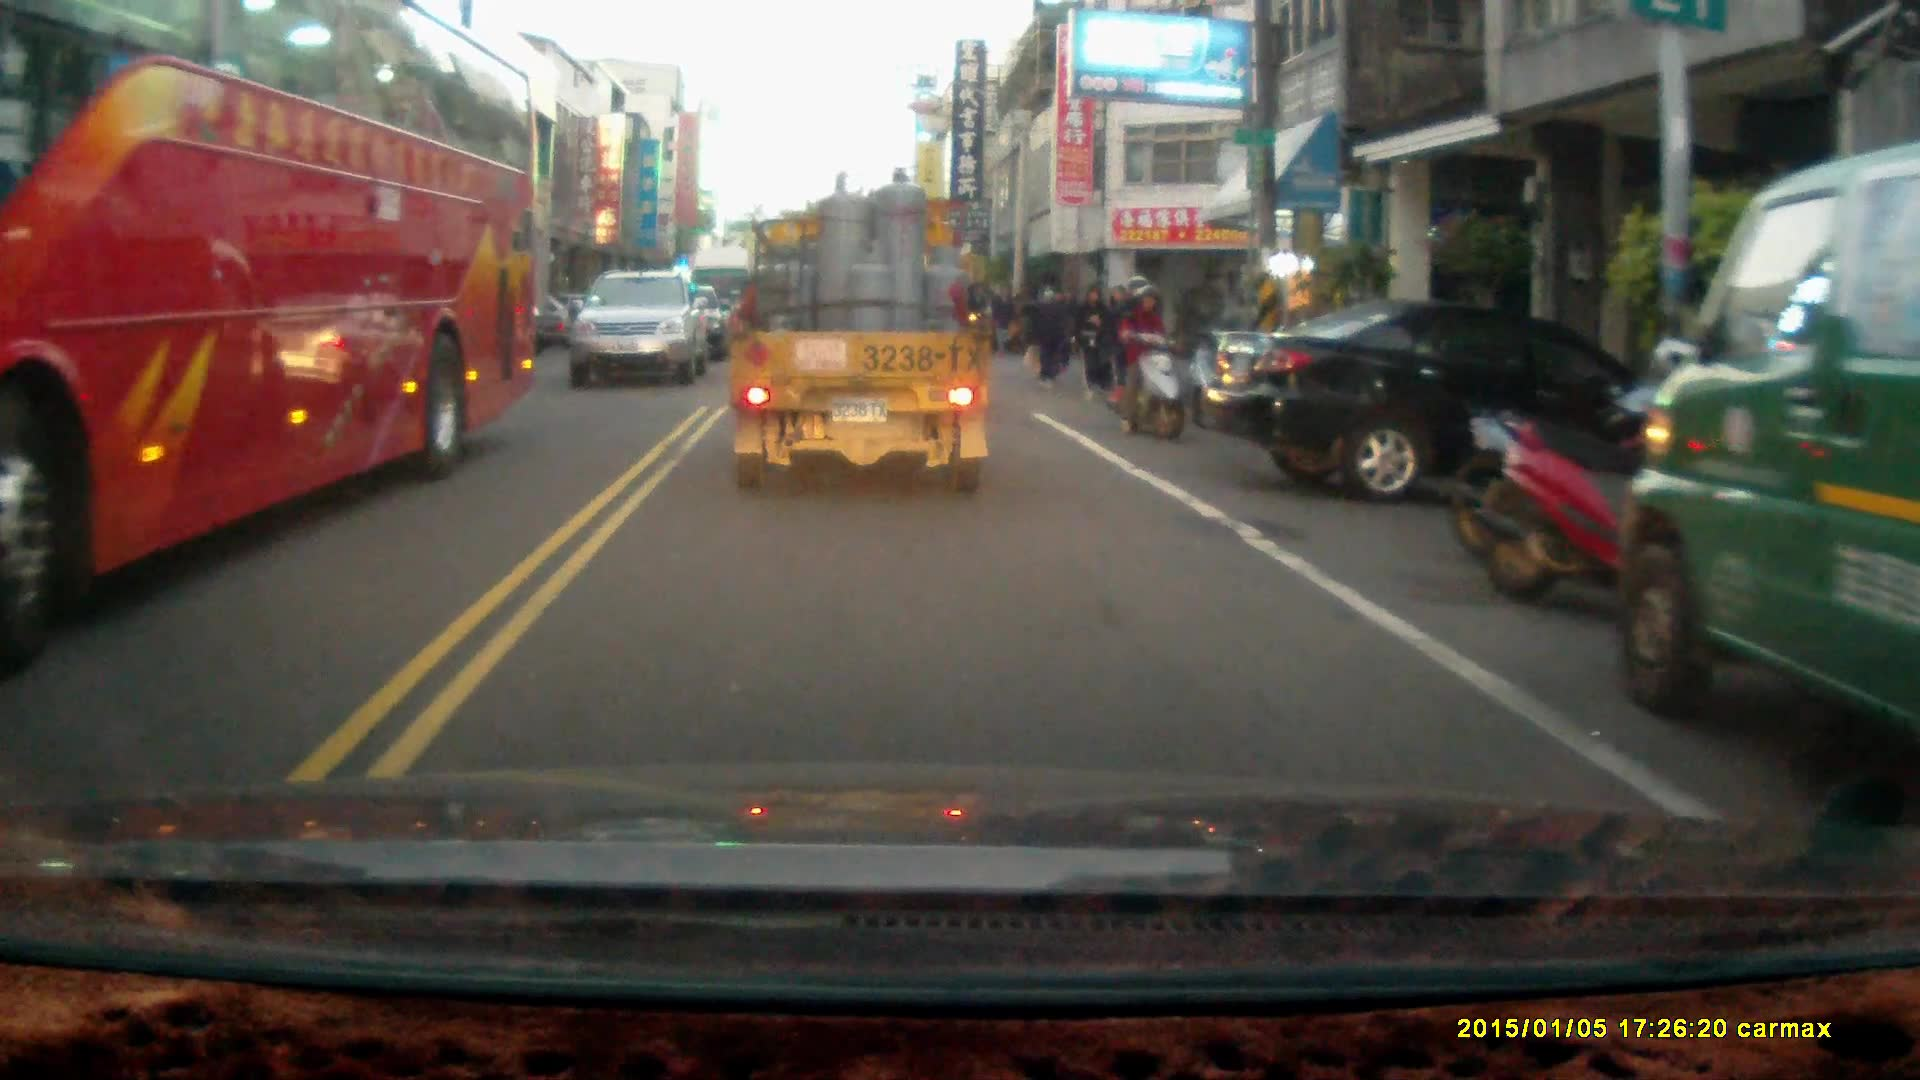pedestrian: (1075, 282, 1115, 401), (1028, 281, 1069, 387), (991, 283, 1016, 356)
rider: (1114, 274, 1185, 441)
vehicle: (1, 7, 547, 635), (1626, 133, 1920, 715), (1192, 302, 1710, 500), (725, 164, 997, 498), (568, 270, 710, 389)
